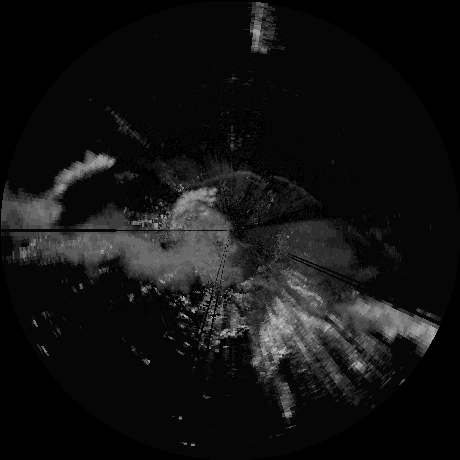frontgust: (274, 175, 320, 204), (191, 168, 263, 185)
